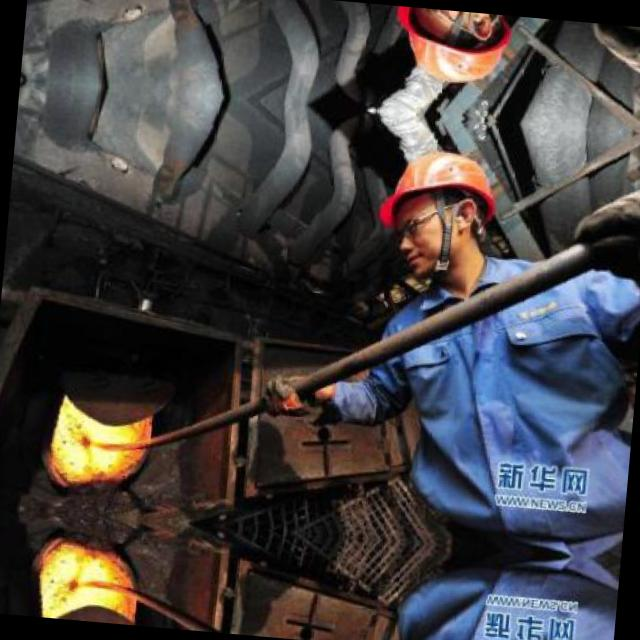helmet: (366, 134, 512, 282), (382, 5, 524, 99)
